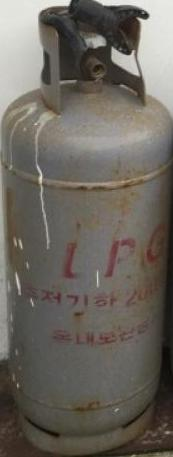cylinder: (0, 1, 173, 457)
